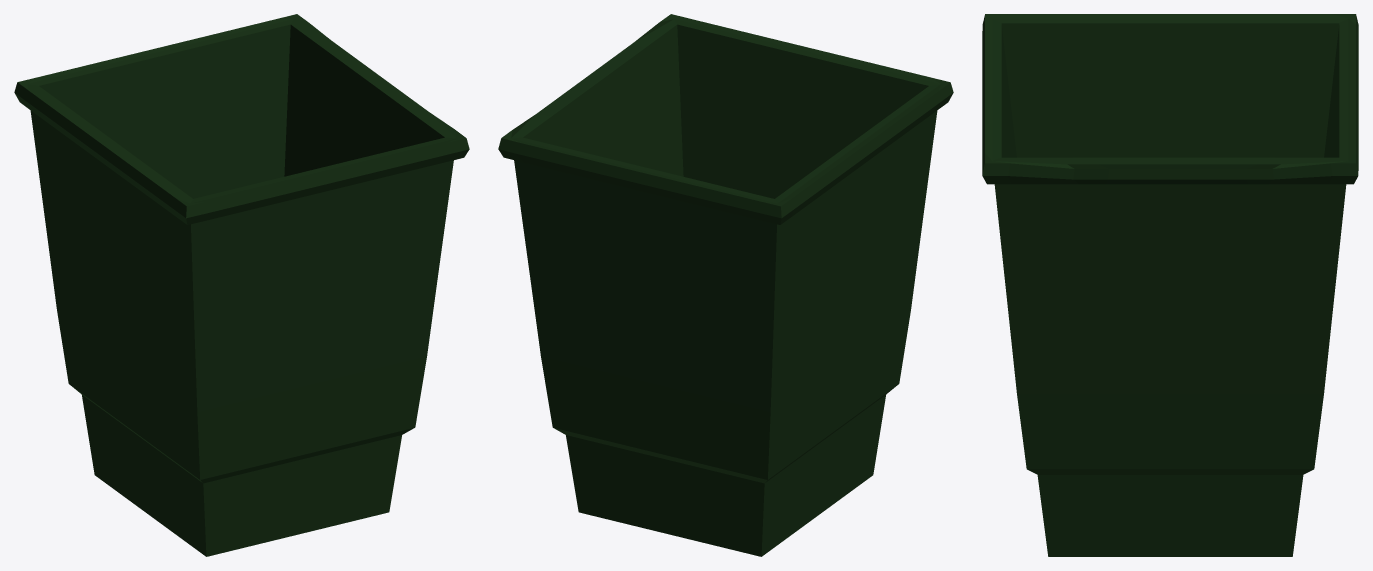
Rendered from trash_nolid.FBX.
3 views of the same model, side by side, from view 1: azimuth 30°, elevation 25°; view 2: azimuth 150°, elevation 25°; view 3: azimuth 270°, elevation 25° (orthographic). The views are drawn at different scales.
Parts seen in each view (by area): view 1: Box001; view 2: Box001; view 3: Box001.
Part boxes in pixels (box(x1,y1,x2,y2)): Box001: box(14, 14, 469, 556); Box001: box(498, 14, 953, 556); Box001: box(982, 14, 1358, 556).
Bounding box in the file's own units: 38.22 × 49.39 × 40.14.
